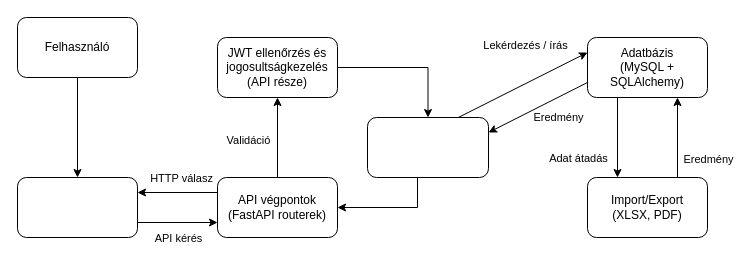
Image size: 750x262. Some labels were removed from this diagram. Here are the shapes that lost their labels. From the top down, the centre of each, then its label:
At (427,147): "Service réteg".
At (77,207): "Frontend (React + Vite)".
